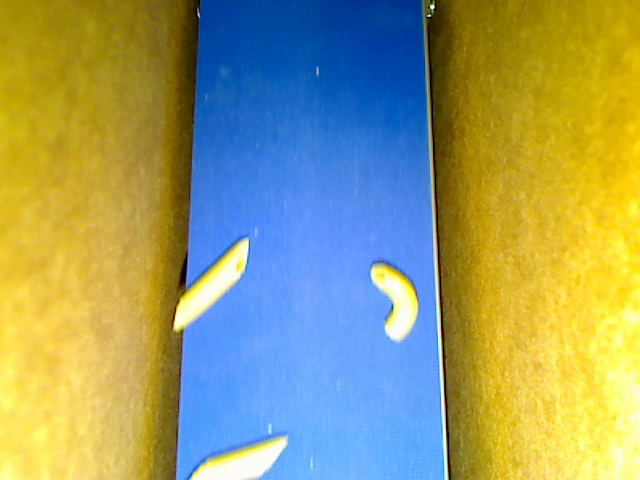elbow: (369, 263, 418, 342)
penne: (174, 235, 249, 332), (189, 435, 289, 479)
